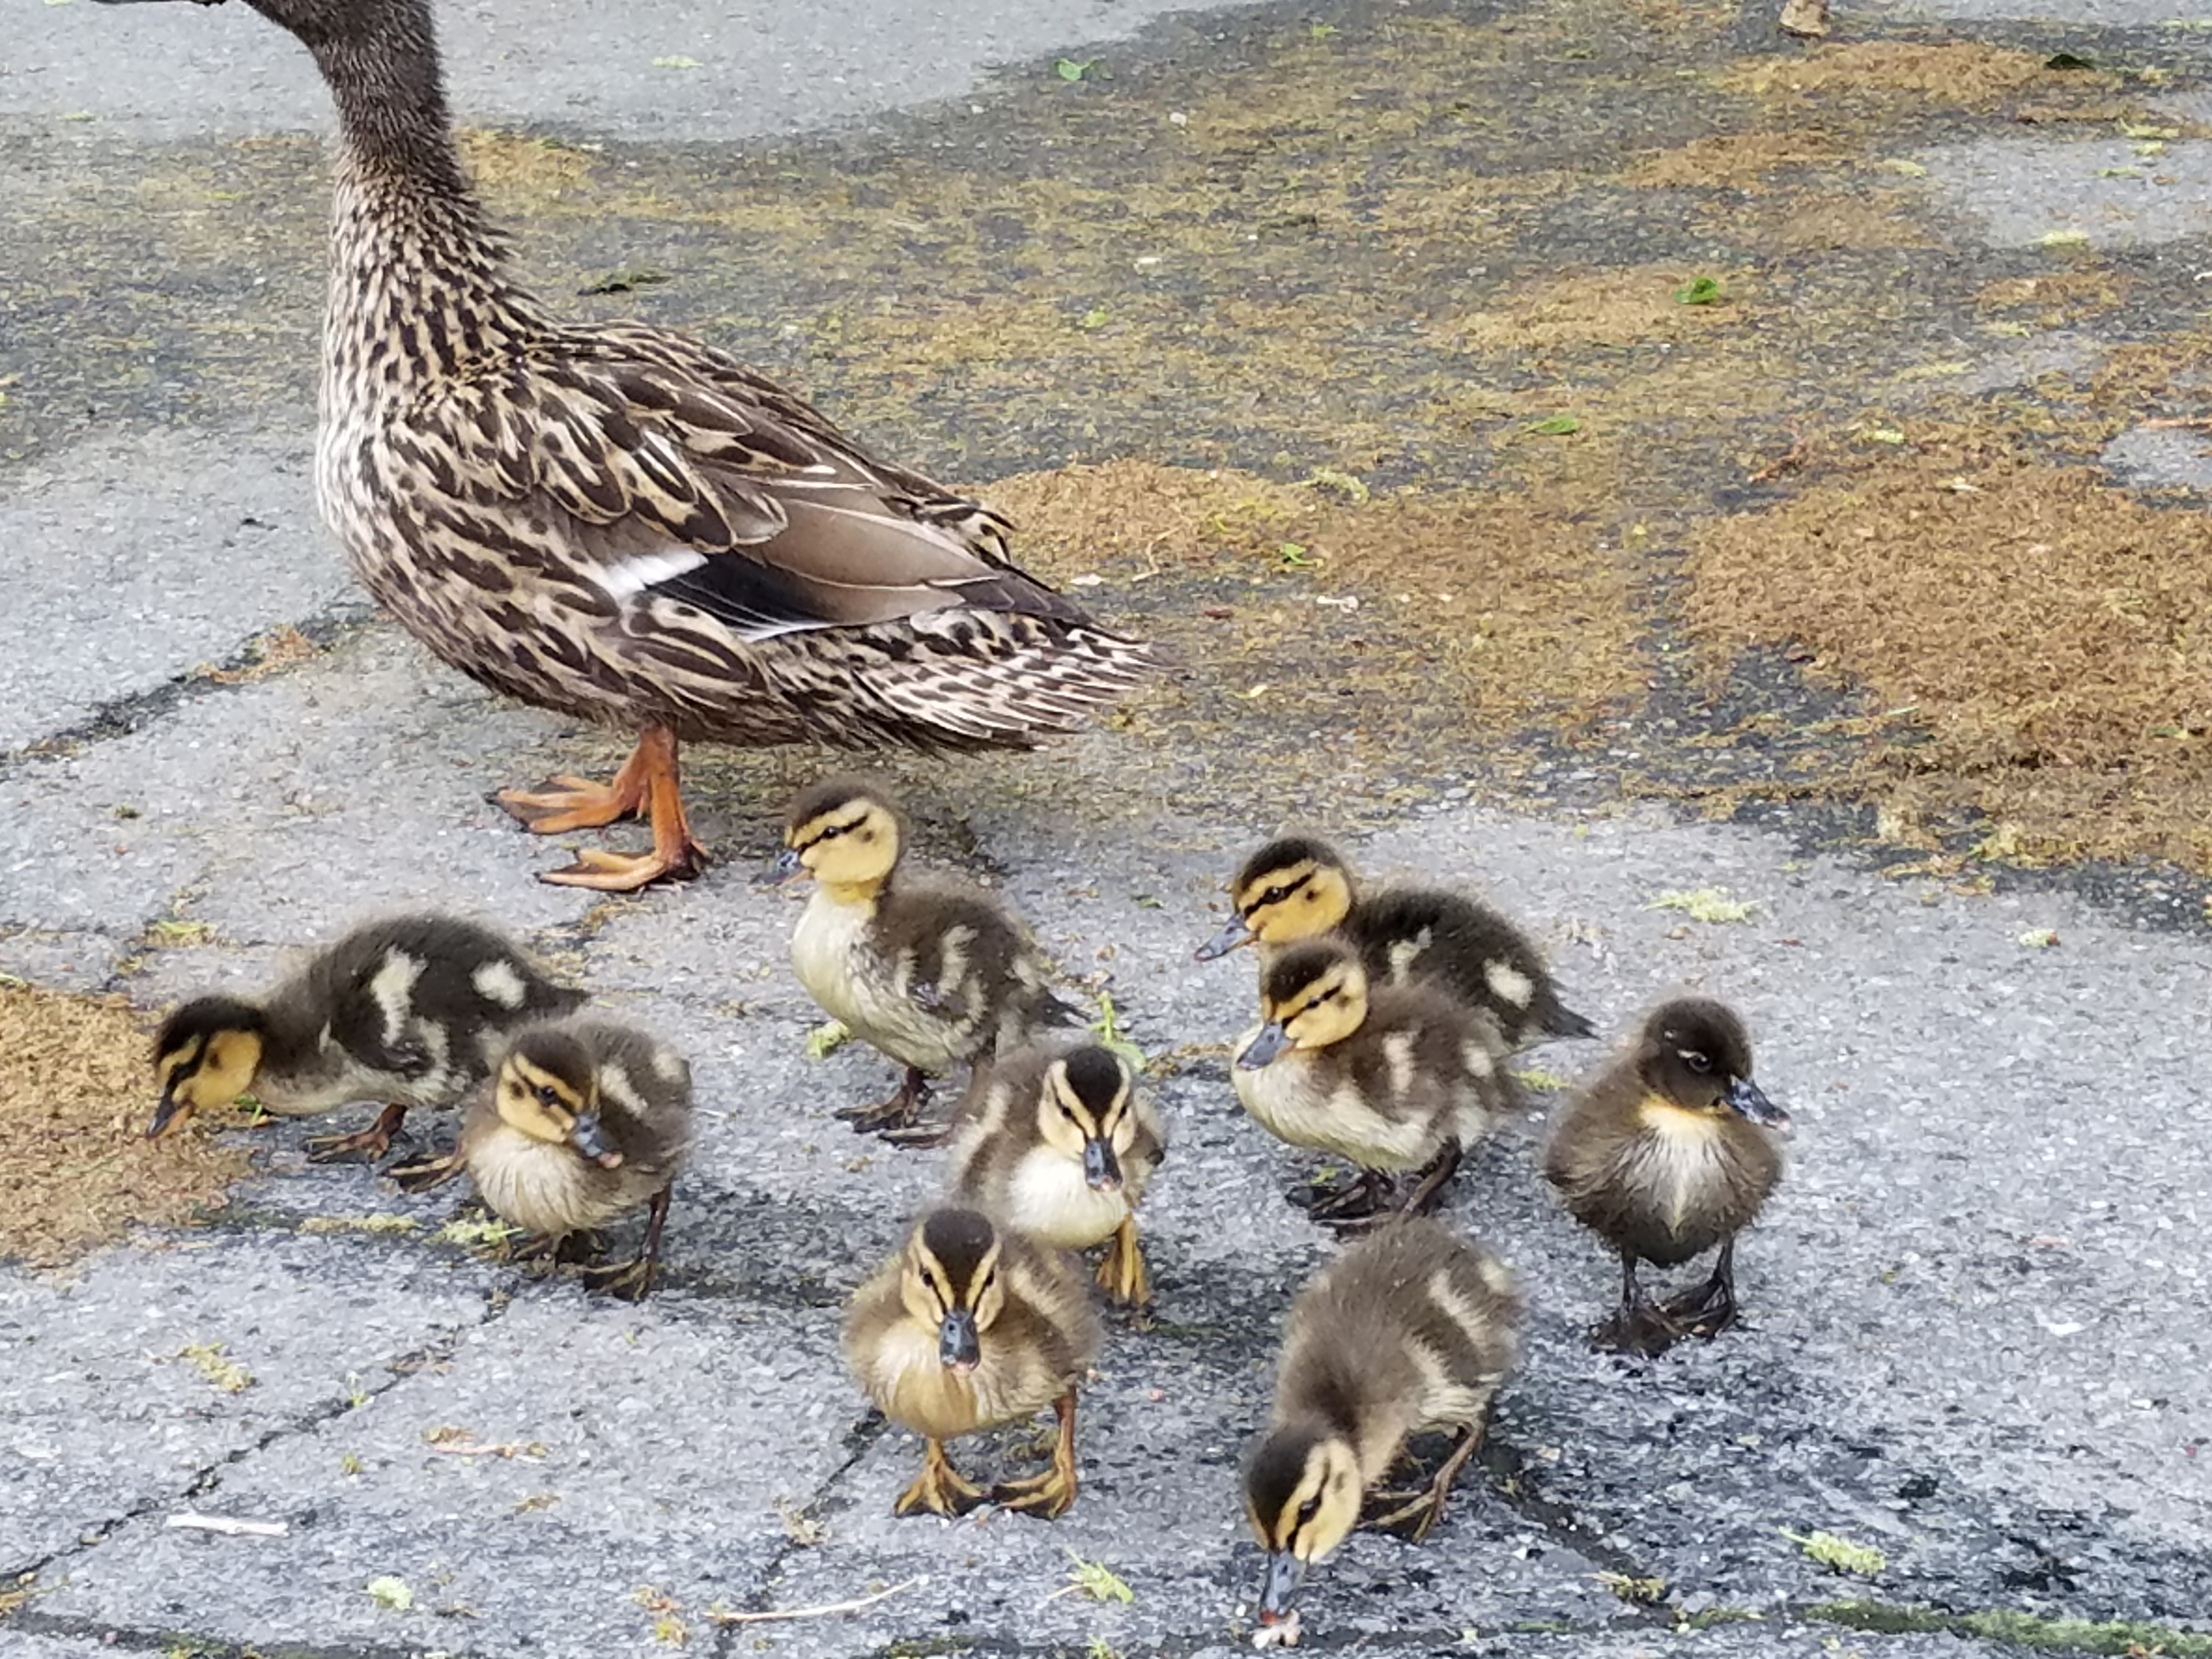duck: (94, 0, 1090, 880)
duckling: (155, 941, 563, 1188), (1211, 849, 1599, 1100), (782, 802, 1050, 1136), (1562, 1012, 1818, 1354), (1217, 964, 1547, 1227), (1256, 1258, 1521, 1581), (848, 1223, 1103, 1518), (475, 1053, 737, 1316), (967, 1056, 1176, 1333)
